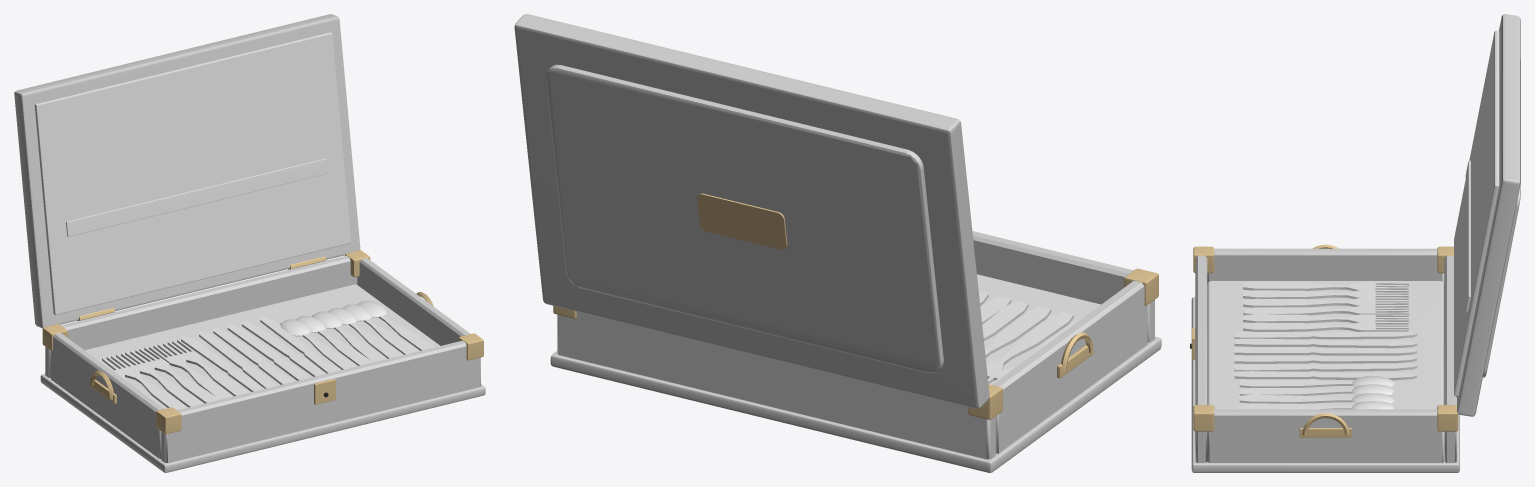
The model's file is SM_Loot_Silverware.fbx.
3 renders of one model, left to right at view 1: azimuth 30°, elevation 25°; view 2: azimuth 150°, elevation 25°; view 3: azimuth 270°, elevation 25°, orthographic. The views are drawn at different scales.
Parts seen in each view (by area): view 1: SM_Loot_Silverware_1; view 2: SM_Loot_Silverware_1; view 3: SM_Loot_Silverware_1.
Part boxes in pixels (box(x1,y1,x2,y2)): SM_Loot_Silverware_1: box(14, 14, 485, 472); SM_Loot_Silverware_1: box(514, 14, 1161, 472); SM_Loot_Silverware_1: box(1190, 14, 1520, 472).
Bounding box in the file's own units: 46.37 × 37.17 × 38.
